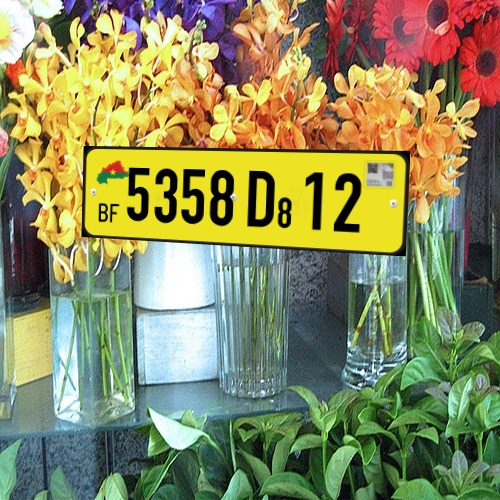plate: (72, 128, 422, 278)
